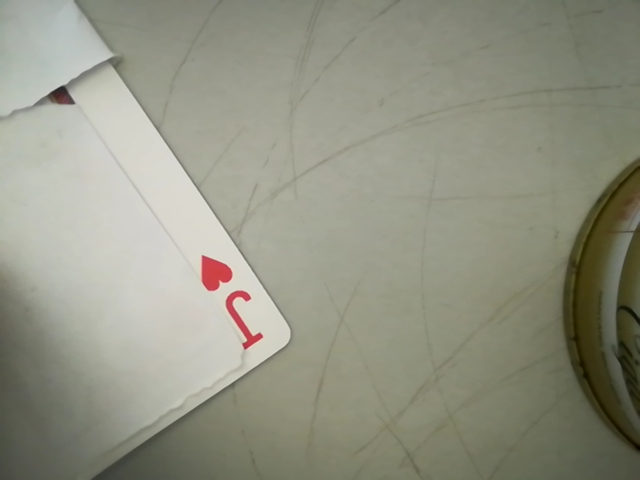hx j: (196, 247, 272, 359)
